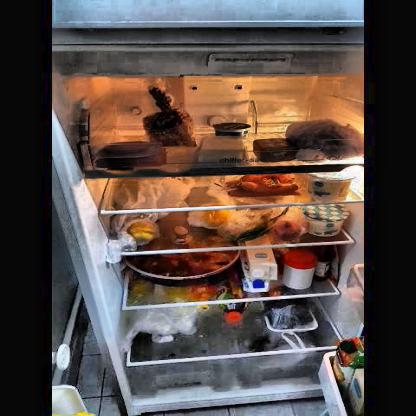broccoli: (266, 301, 311, 329)
butter: (252, 140, 295, 160)
carrot: (226, 175, 298, 195)
cheese: (200, 137, 243, 160)
green_chillies: (220, 224, 268, 241)
lemon: (126, 221, 157, 242), (203, 209, 229, 226)
milk: (240, 250, 277, 290)
salami: (104, 141, 150, 156)
tomato: (275, 220, 303, 241)
yoghurt: (302, 205, 349, 236), (308, 172, 354, 198), (212, 123, 251, 135)
